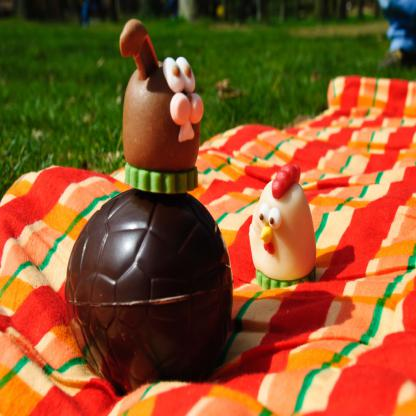Ball: (66, 188, 232, 397)
